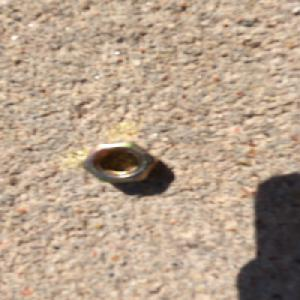Nut: (84, 138, 164, 184)
